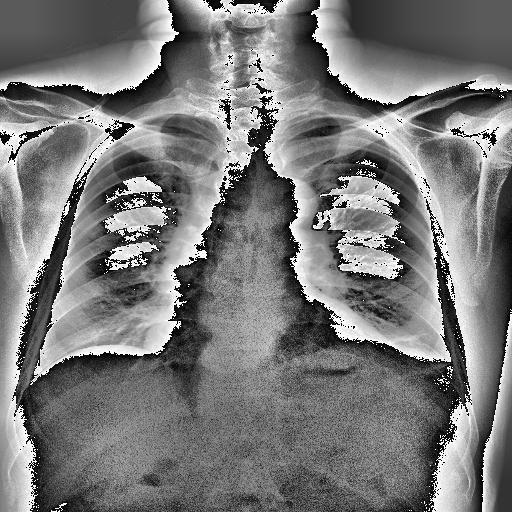0- Aortic enlargement: (252, 174, 320, 240), (250, 174, 318, 230), (271, 175, 317, 220)
13- Pulmonary fibrosis: (126, 306, 166, 344), (382, 328, 428, 342), (380, 331, 422, 344), (383, 334, 432, 344), (420, 360, 453, 372), (432, 361, 456, 371)
3- Cardiomegaly: (141, 310, 416, 372), (143, 322, 412, 380), (142, 311, 392, 370)
